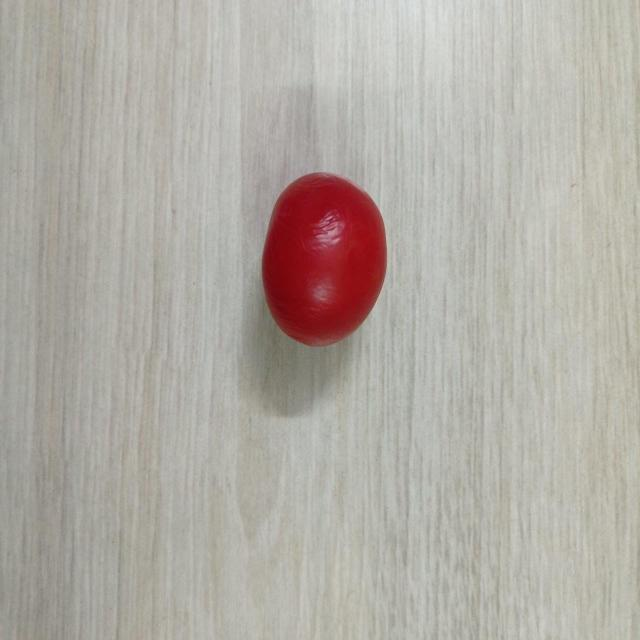Tomato: (258, 169, 392, 351)
